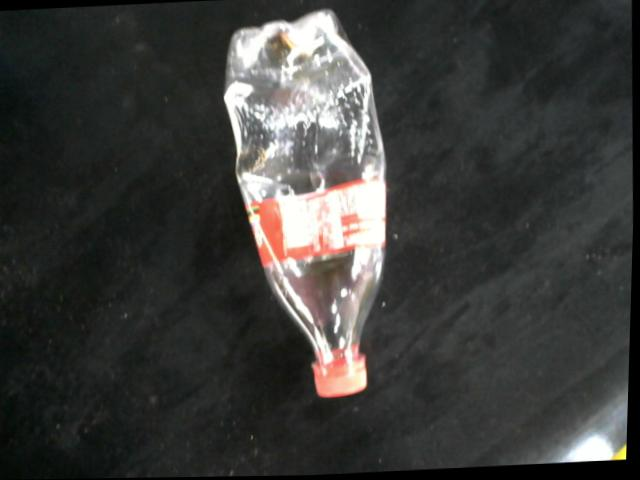bottle: (224, 7, 389, 400)
